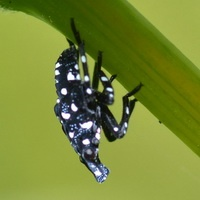insect: (54, 18, 142, 182)
